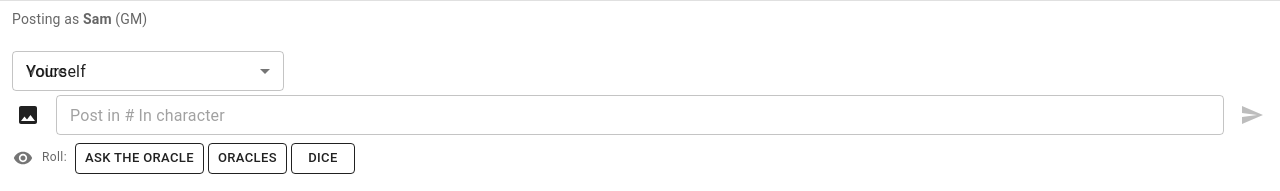
Scenario: ChatComposer › offers GMs a voice picker over the campaign world's NPC list
The width and height of the screenshot is (1280, 191).
Later steps or results of the test are not shown.
Select "Elder Moss" in the dropdown named "Posting as" at (148, 71), box left=12, top=51, right=284, bottom=91
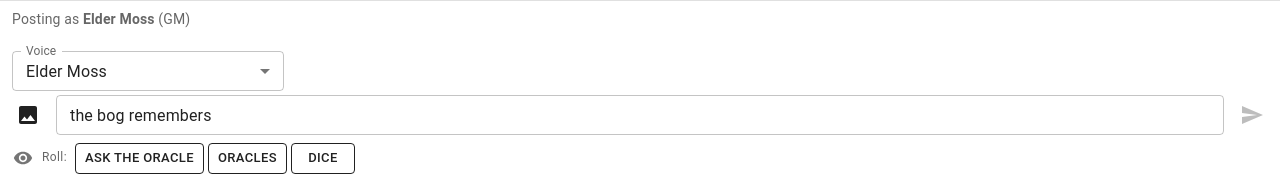
Expected: the text "Elder Moss" is shown, left=83, top=11, right=155, bottom=27
